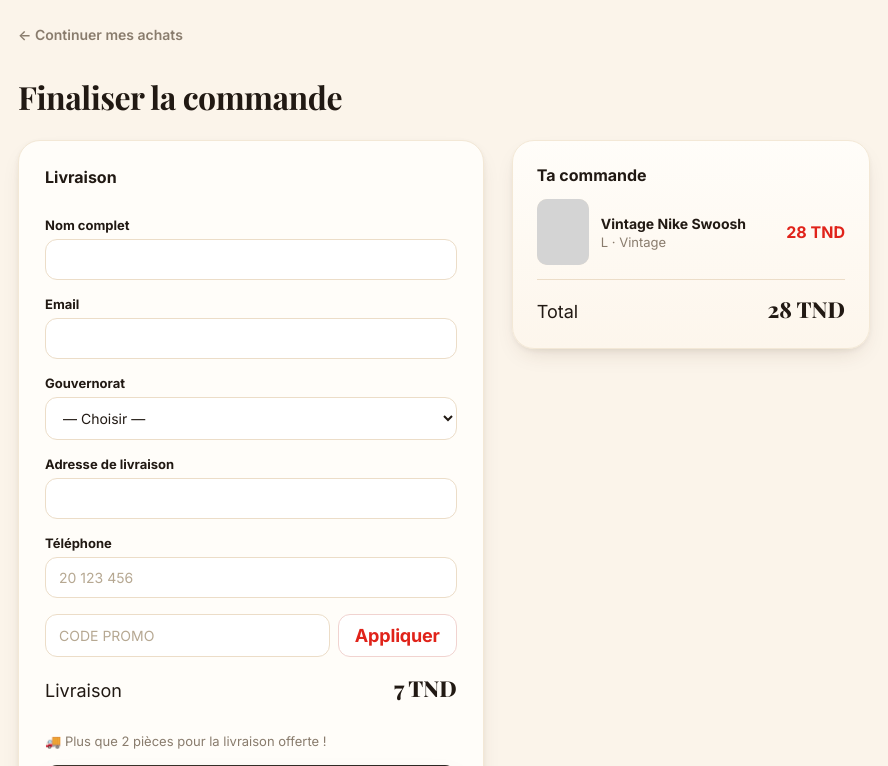
Scenario: CheckoutPage › places the order with the customer info and shows the confirmation
Type "Amine Ben Salah" into the field labelled "Nom complet". click: point(251, 260)
box: [45,239,457,280]
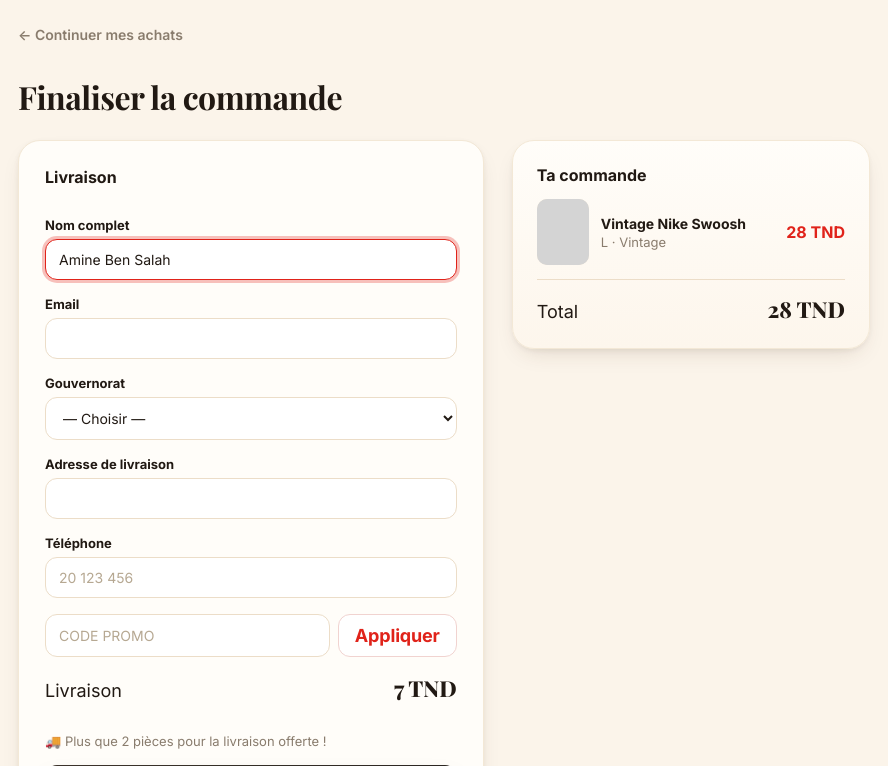
Type "amine@fripa.tn" into the field labelled "Email". click: point(251, 338)
box: [45,318,457,359]
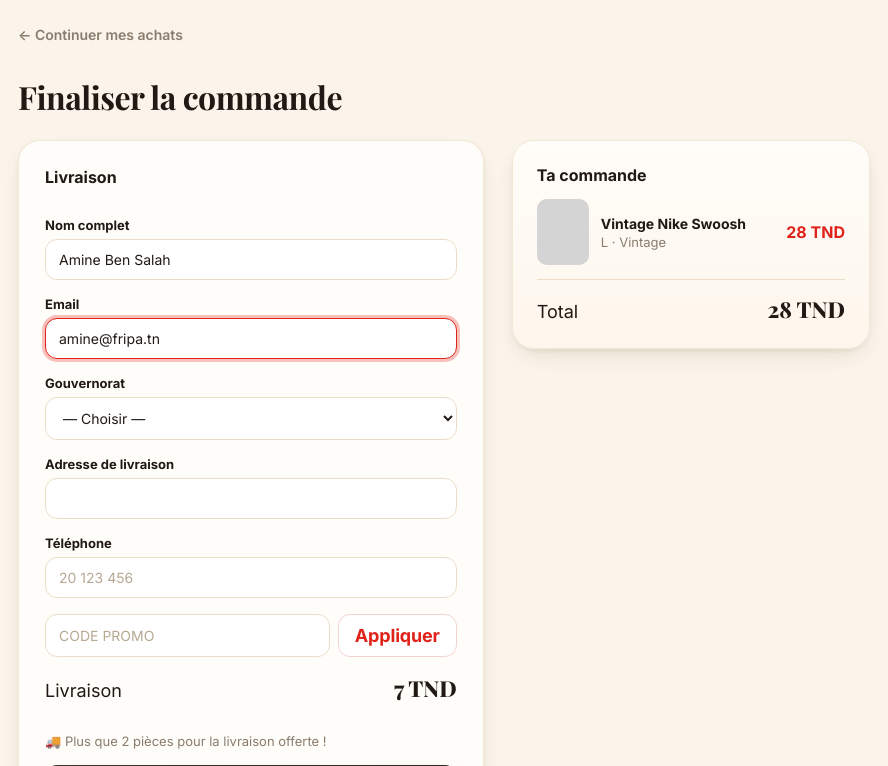
Select "Tunis" in the dropdown labelled "Gouvernorat". click: point(251, 418)
box: [45,397,457,440]
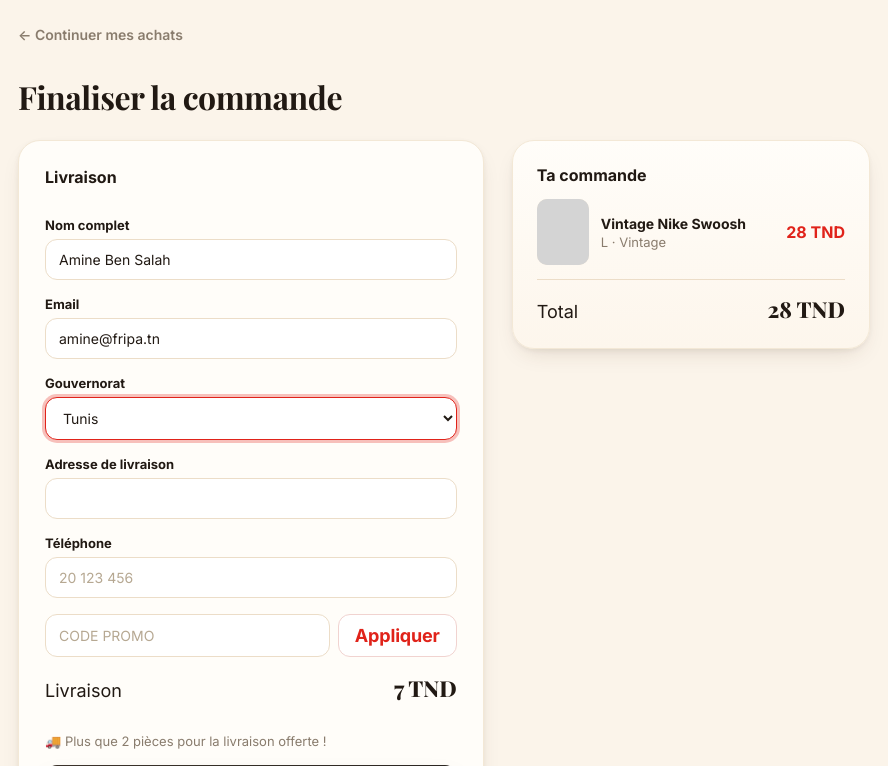
Type "12 rue de Marseille, Tunis" into the field labelled "Adresse de livraison". click: point(251, 498)
box: [45,478,457,519]
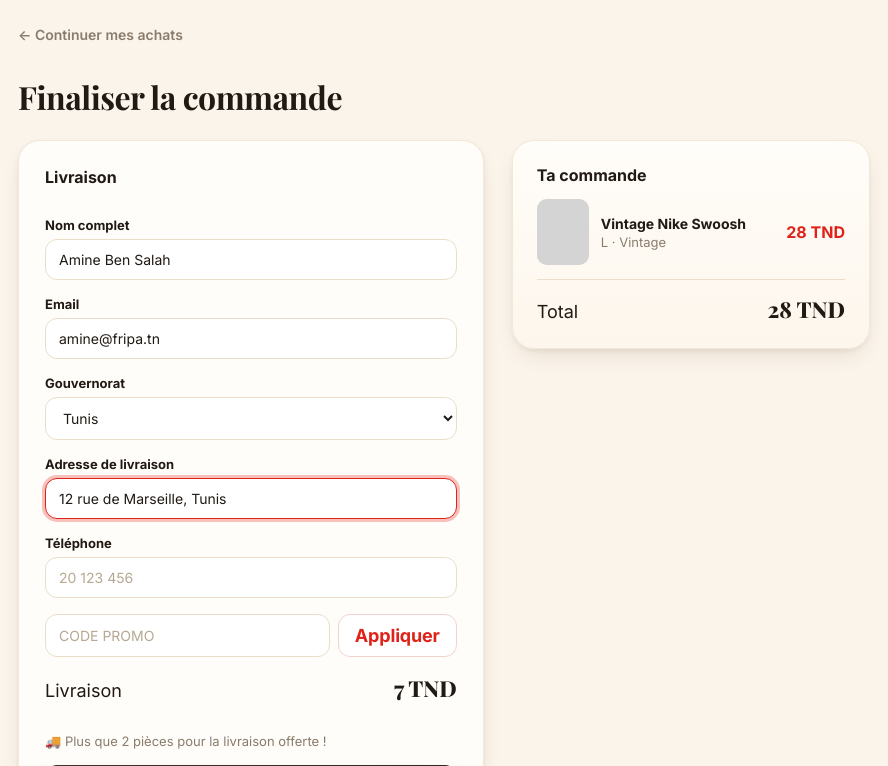
Type "20123456" into the field labelled "Téléphone". click: point(251, 578)
box: [45,557,457,598]
(page scrolled)
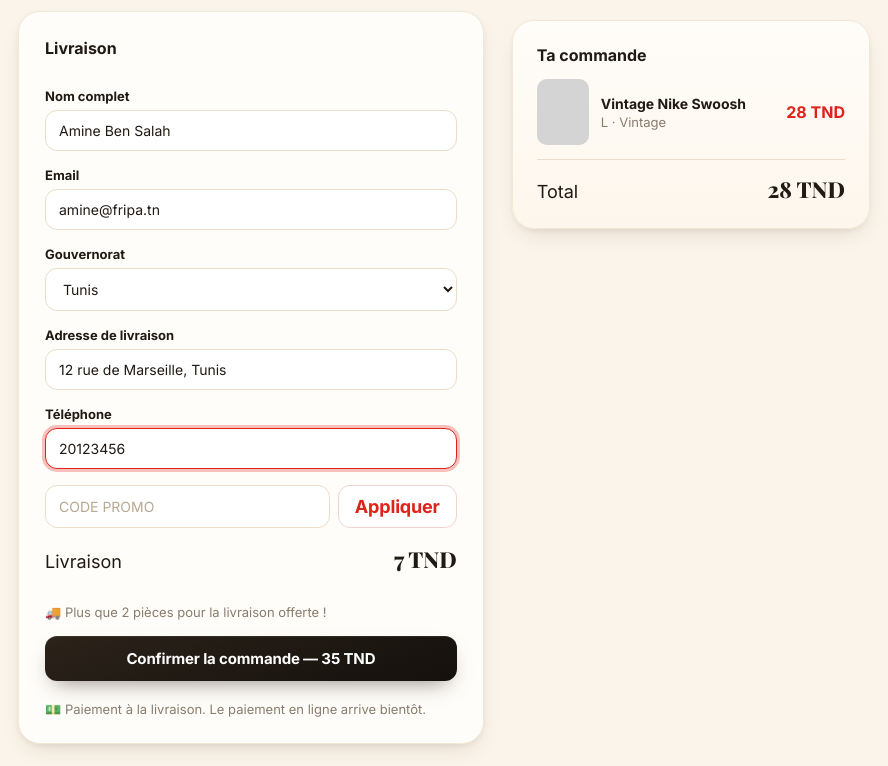
Click the button "Confirmer la commande — 35 TND". click: point(251, 658)
box: [45,636,457,681]
(page scrolled)
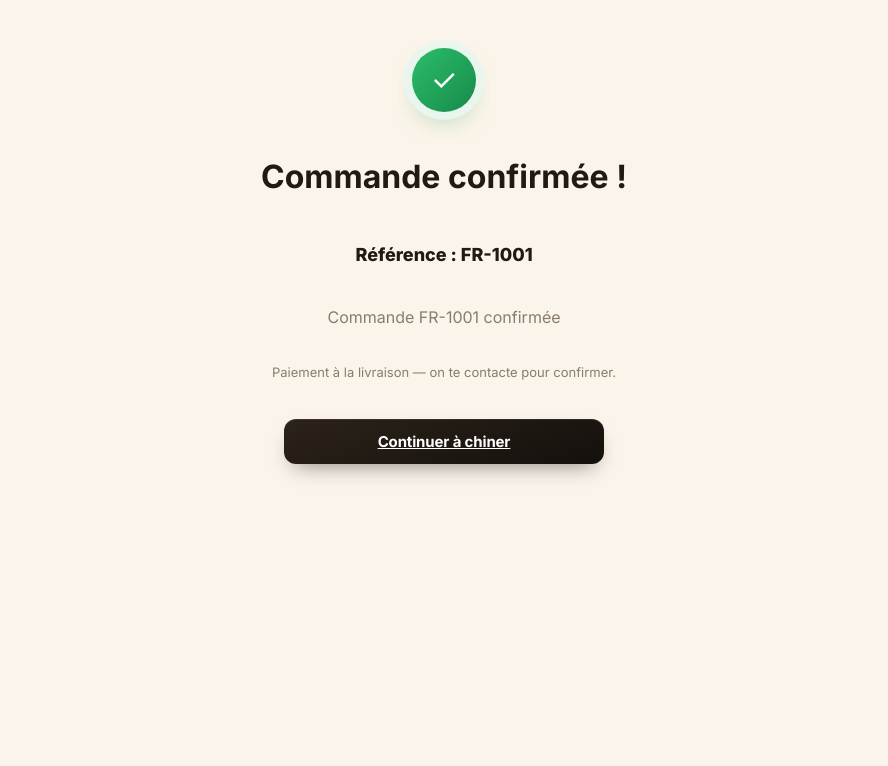
Check: the text "Référence : FR-1001" is shown, box [355,244,533,265]
